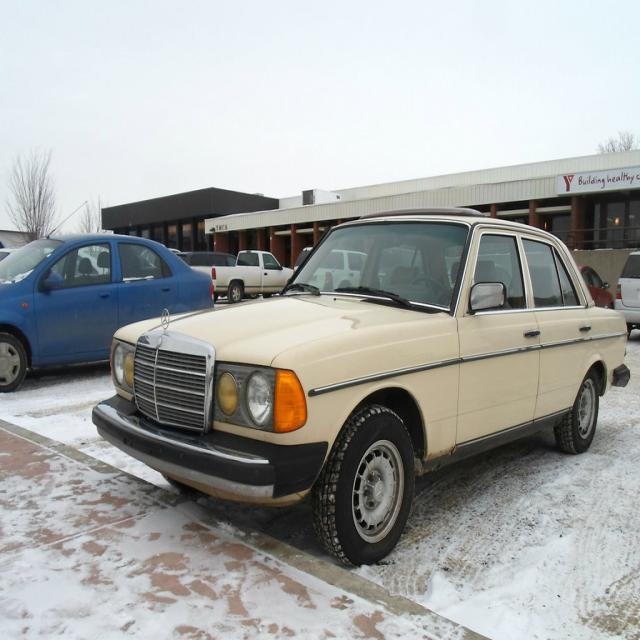car: (85, 219, 620, 554)
